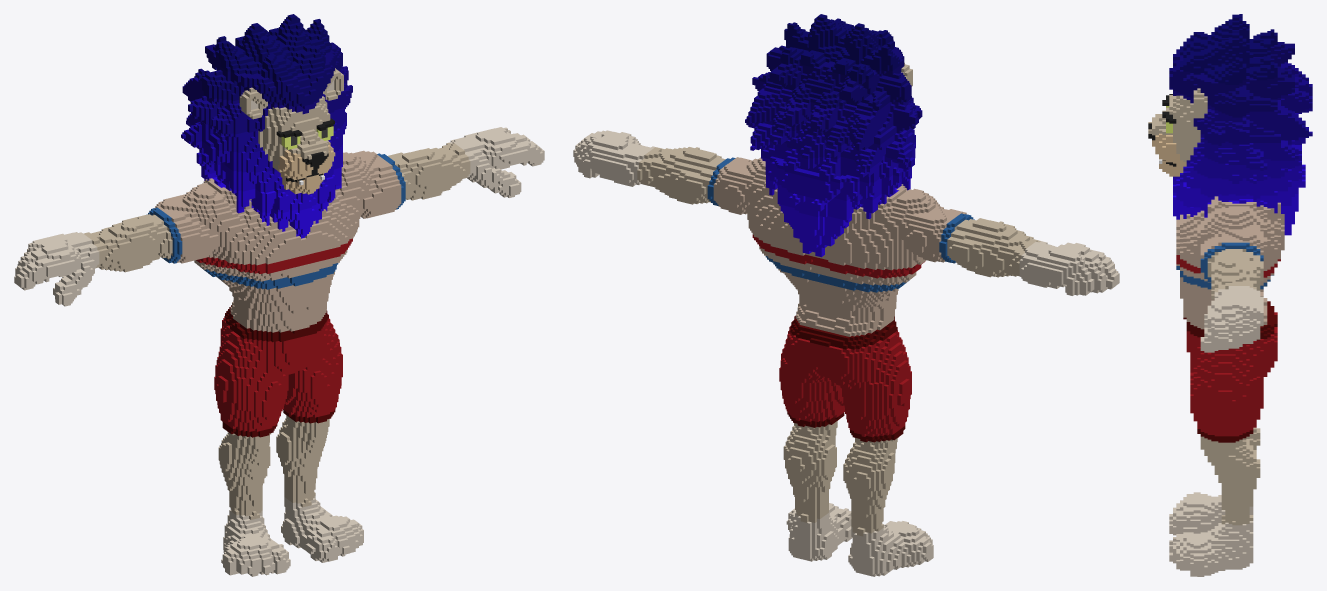
3 views of the same model, side by side, from view 1: azimuth 30°, elevation 25°; view 2: azimuth 150°, elevation 25°; view 3: azimuth 270°, elevation 25° (orthographic). The views are drawn at different scales.
Parts seen in each view (by area): view 1: standard; view 2: standard; view 3: standard.
Part boxes in pixels (x1=…): standard: x1=14, y1=14, x2=544, y2=576; standard: x1=573, y1=14, x2=1119, y2=576; standard: x1=1148, y1=14, x2=1312, y2=576.
Size of the model in its own units: 17.2 by 16.5 by 4.7.
5 materials, 5 textured.
